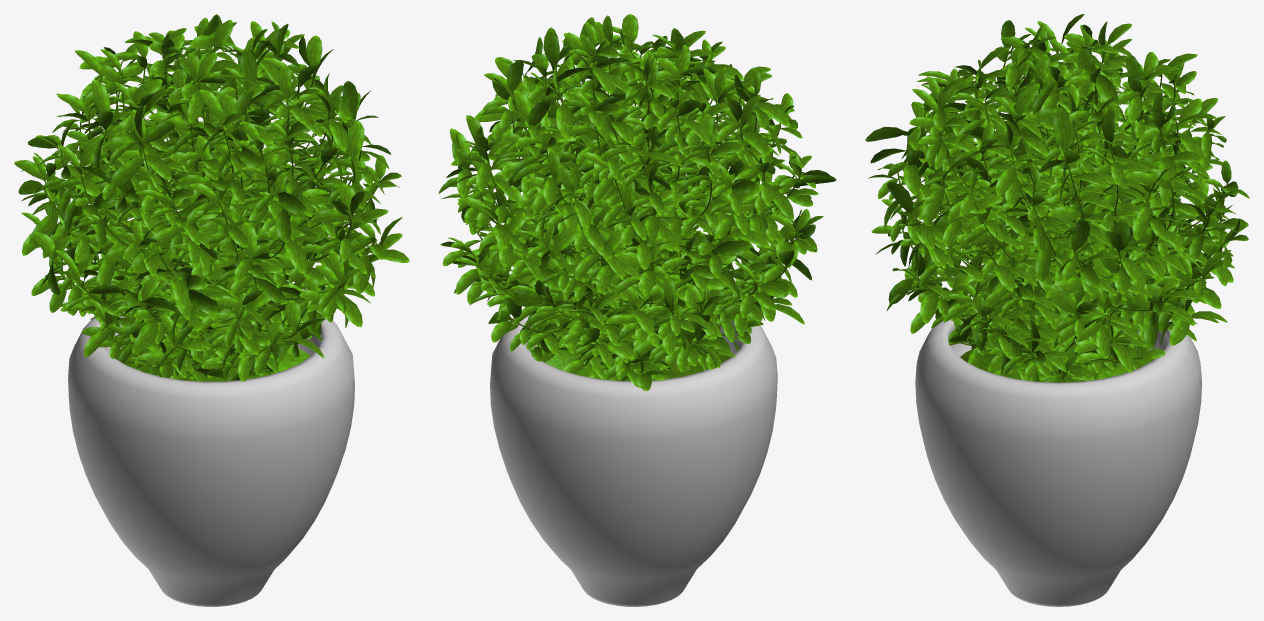
3 renders of one model, left to right at view 1: azimuth 30°, elevation 25°; view 2: azimuth 150°, elevation 25°; view 3: azimuth 270°, elevation 25°, orthographic.
Visible parts, largest first — view 1: archmodel0.001; view 2: archmodel0.001; view 3: archmodel0.001.
Boxes of the visible parts, <box> form: archmodel0.001: <box>14,14,409,606</box>; archmodel0.001: <box>438,14,836,606</box>; archmodel0.001: <box>865,14,1249,606</box>.
Bounding box in the file's own units: 139 × 225 × 143.
2 materials, 1 textured.
